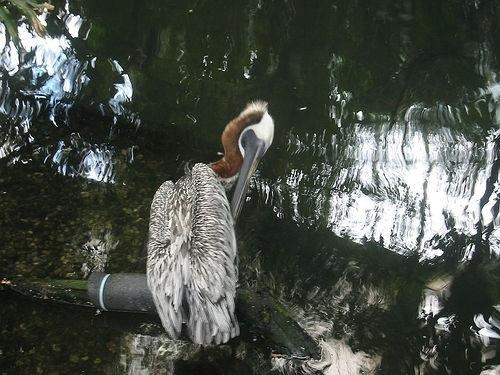bird: (147, 101, 277, 347)
